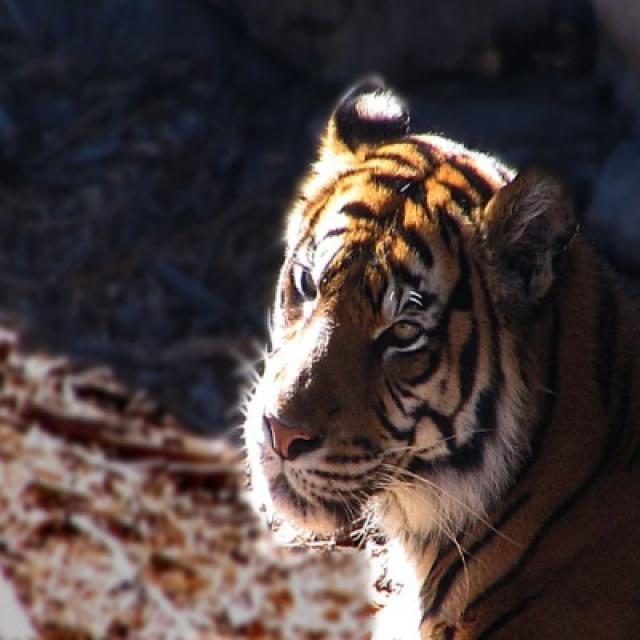Tiger: (223, 68, 638, 638)
